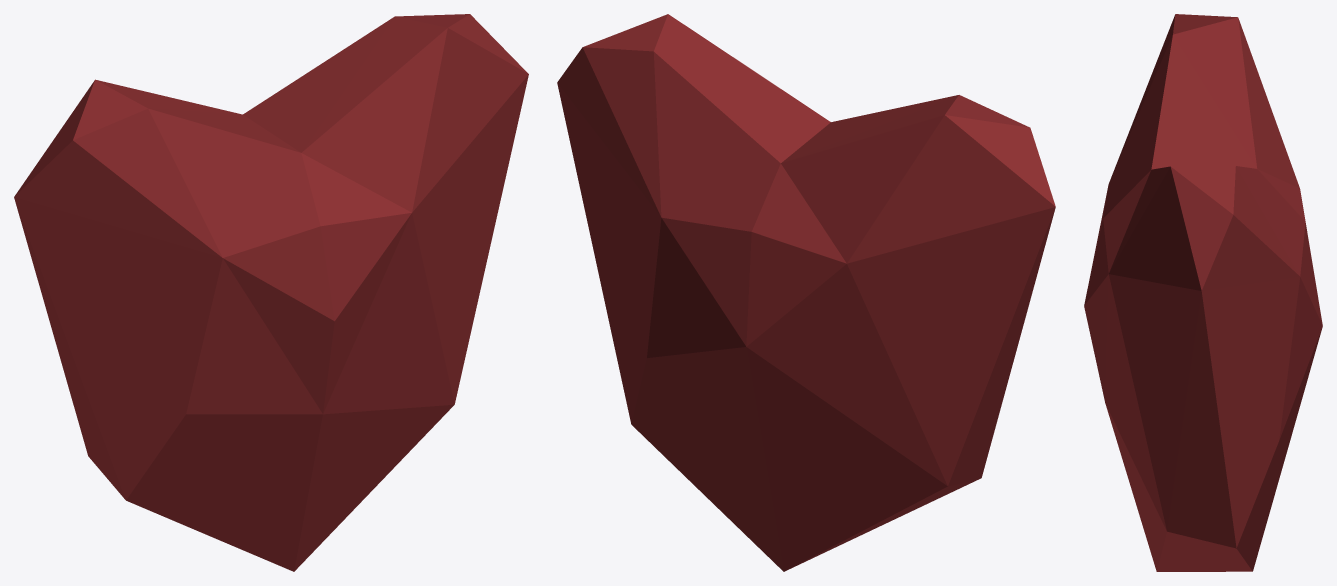
Rendered from heart.fbx.
3 views of the same model, side by side, from view 1: azimuth 30°, elevation 25°; view 2: azimuth 150°, elevation 25°; view 3: azimuth 270°, elevation 25° (orthographic). The views are drawn at different scales.
Parts seen in each view (by area): view 1: Cube; view 2: Cube; view 3: Cube.
Part boxes in pixels (box(x1,y1,x2,y2)): Cube: box(14, 14, 528, 571); Cube: box(557, 14, 1055, 571); Cube: box(1084, 14, 1322, 571).
Bounding box in the file's own units: 675 × 629 × 283.
